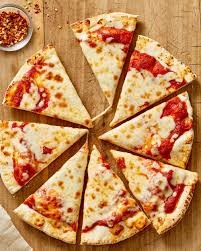pizza: (3, 11, 196, 240)
